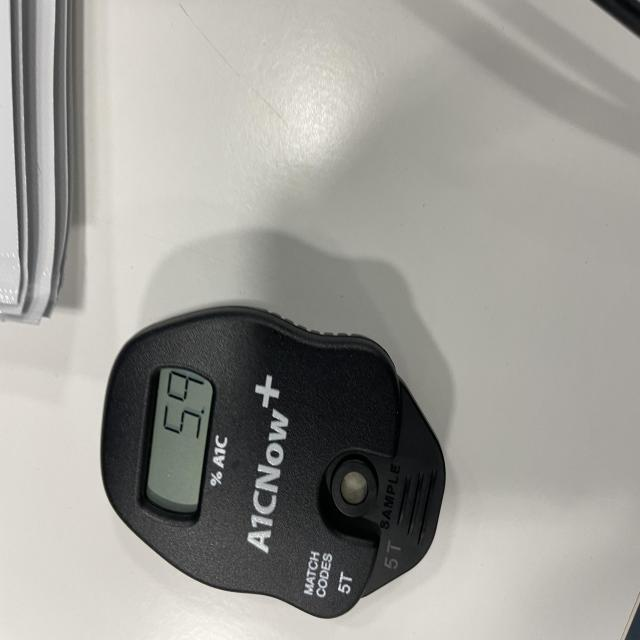hba1c: (100, 305, 447, 621)
